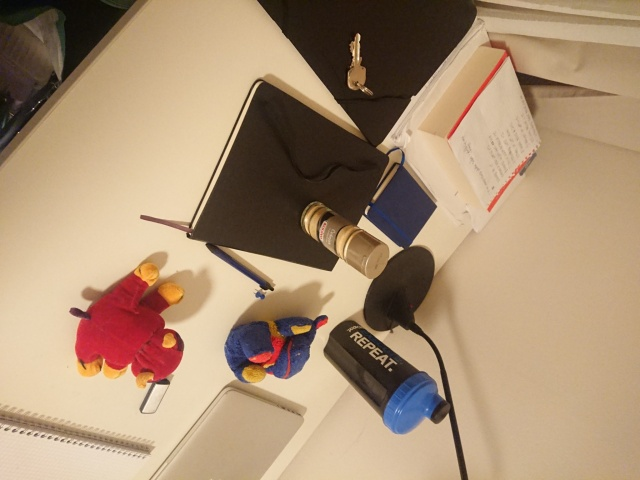Kotanyi Garlic Granules 70g: (299, 199, 391, 280)
